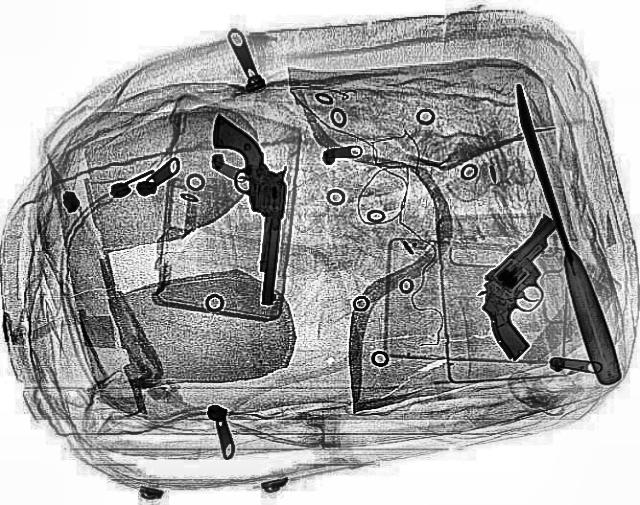Gun: (438, 213, 622, 360), (195, 113, 293, 304)
Knife: (503, 81, 625, 387)
